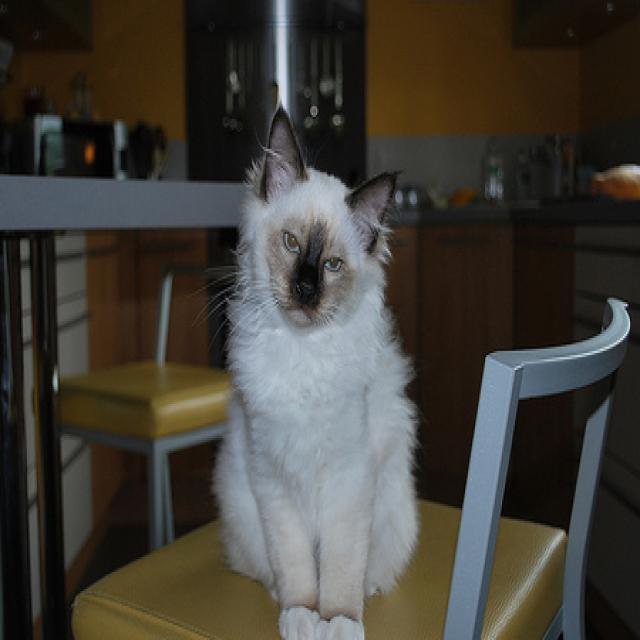Birman: (210, 102, 421, 640)
